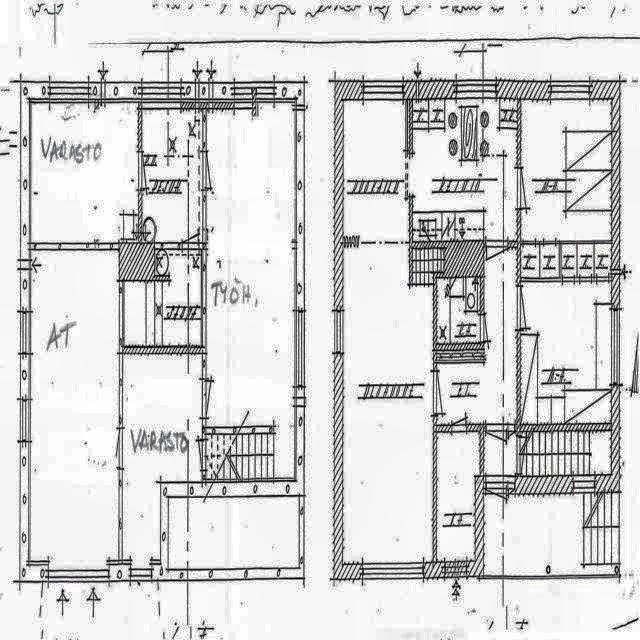room: (206, 102, 297, 484), (30, 249, 119, 571), (121, 352, 203, 560), (30, 101, 139, 242), (413, 99, 517, 243), (520, 98, 612, 243), (520, 282, 611, 424), (141, 108, 203, 244), (124, 248, 202, 346), (436, 432, 480, 561), (437, 277, 480, 345)
